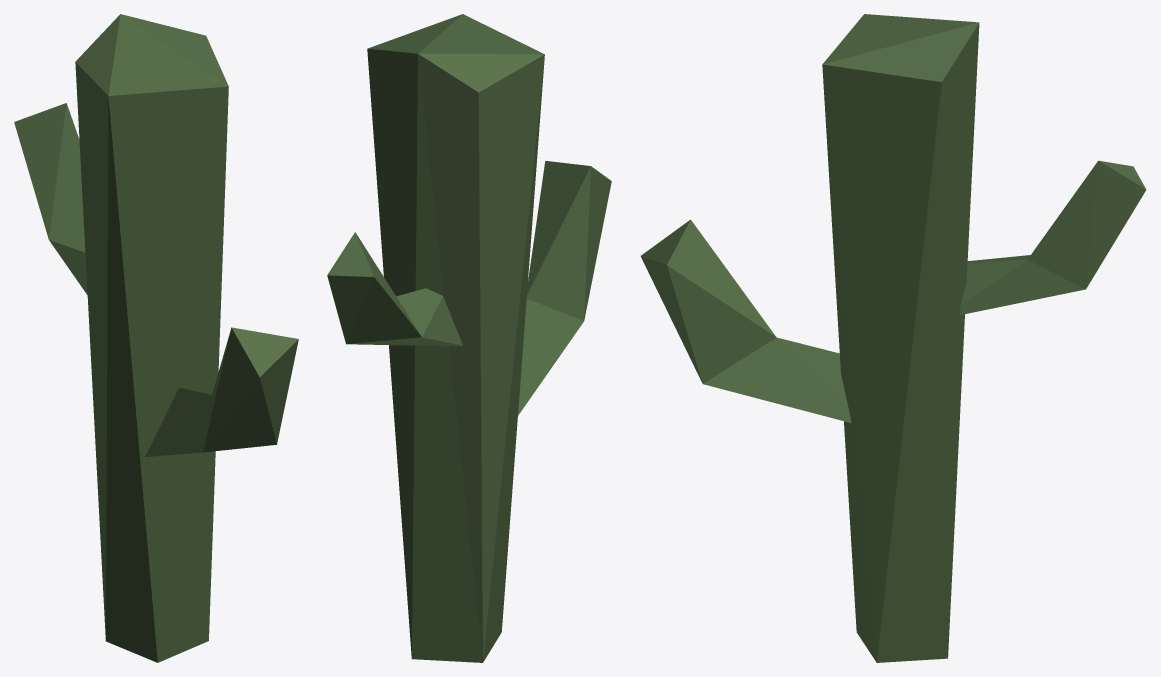
Rendered from Cactus_3.lod3.glb.
The picture shows the model from 3 angles, left to right: view 1: azimuth 30°, elevation 25°; view 2: azimuth 150°, elevation 25°; view 3: azimuth 270°, elevation 25°; orthographic projection. The views are drawn at different scales.
Parts seen in each view (by area): view 1: Cactus_3; view 2: Cactus_3; view 3: Cactus_3.
Boxes of the visible parts, left/top/right/bottom form: Cactus_3: left=14, top=14, right=298, bottom=662; Cactus_3: left=327, top=14, right=611, bottom=662; Cactus_3: left=640, top=14, right=1146, bottom=662.
Bounding box in the file's own units: 0.3216 × 1.37 × 1.01.
